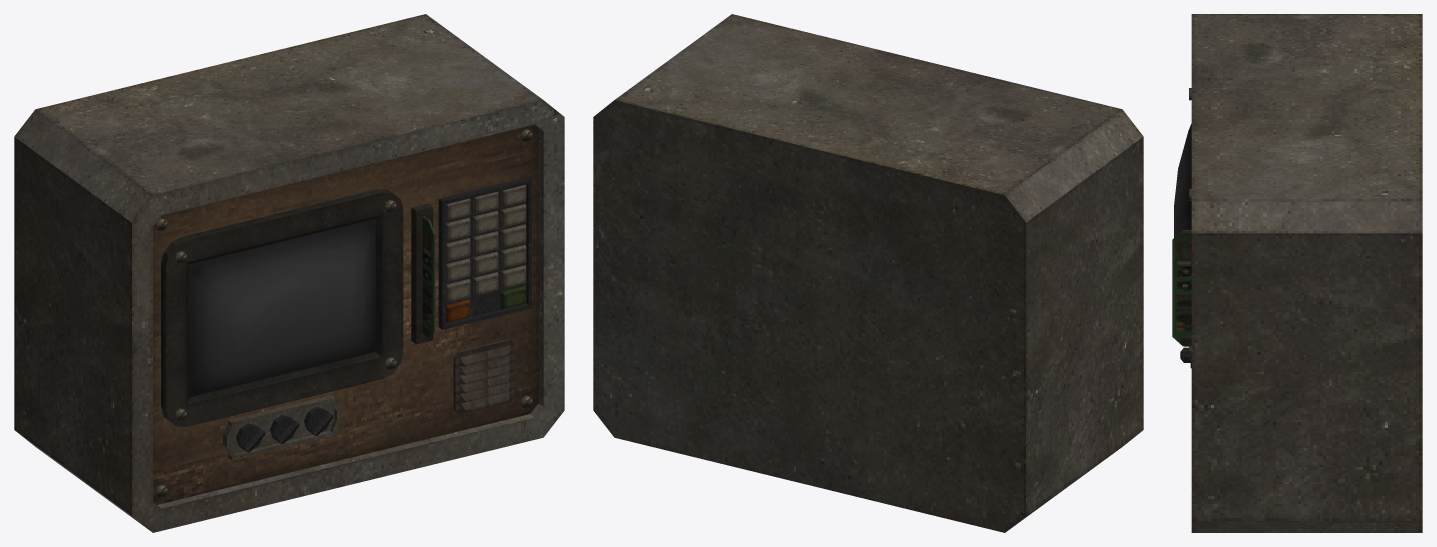
Rendered from computer_terminal_etx_1.glb.
The picture shows the model from 3 angles, left to right: view 1: azimuth 30°, elevation 25°; view 2: azimuth 150°, elevation 25°; view 3: azimuth 270°, elevation 25°; orthographic projection.
Visible parts, largest first — view 1: computer_terminal_etx_1, computer_terminal_etx_1_round_screen, circuit_board_etx_1_child; view 2: computer_terminal_etx_1; view 3: computer_terminal_etx_1, circuit_board_etx_1_child, computer_terminal_etx_1_round_screen.
Boxes of the visible parts, left/top/right/bottom form: computer_terminal_etx_1: left=14, top=14, right=564, bottom=532; computer_terminal_etx_1_round_screen: left=188, top=218, right=375, bottom=397; circuit_board_etx_1_child: left=422, top=216, right=435, bottom=337; computer_terminal_etx_1: left=593, top=14, right=1143, bottom=532; computer_terminal_etx_1: left=1180, top=14, right=1422, bottom=532; circuit_board_etx_1_child: left=1172, top=230, right=1191, bottom=346; computer_terminal_etx_1_round_screen: left=1174, top=123, right=1191, bottom=237.
Size of the model in its own units: 0.918 by 0.684 by 0.468.
Materials: 2 (2 with a texture image).
